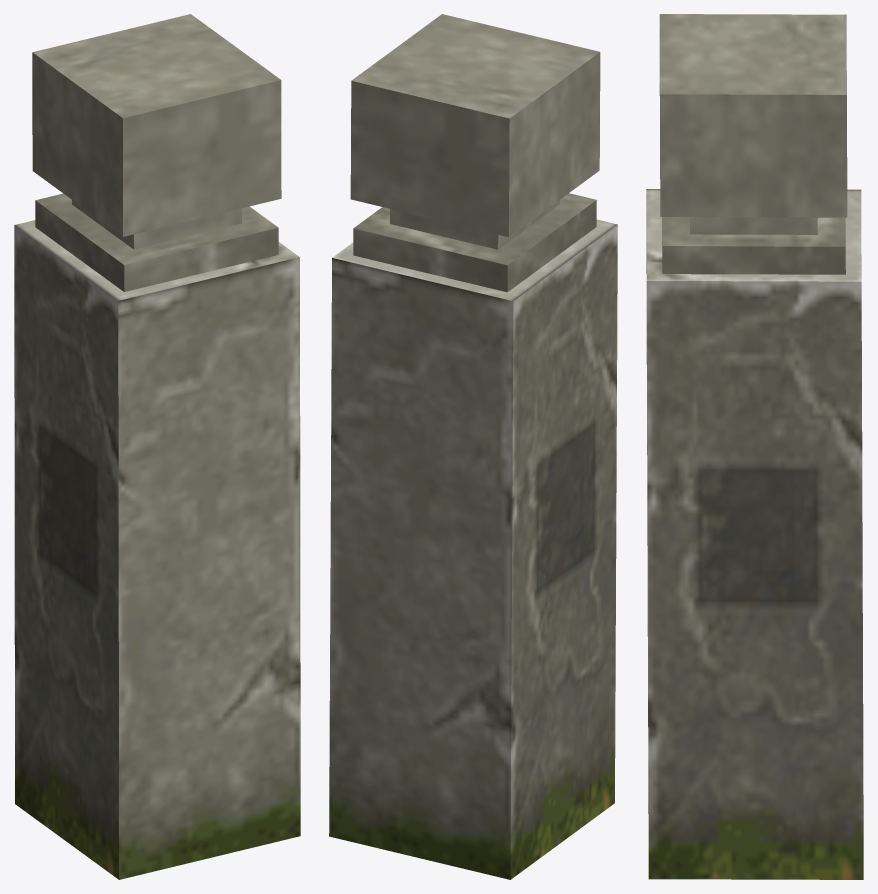
File: ss_langang_2.FBX
The picture shows the model from 3 angles, left to right: view 1: azimuth 30°, elevation 25°; view 2: azimuth 150°, elevation 25°; view 3: azimuth 270°, elevation 25°; orthographic projection. The views are drawn at different scales.
Parts seen in each view (by area): view 1: ss_langang_2; view 2: ss_langang_2; view 3: ss_langang_2.
Part boxes in pixels (x1=…): ss_langang_2: x1=14, y1=14, x2=300, y2=879; ss_langang_2: x1=329, y1=14, x2=617, y2=879; ss_langang_2: x1=646, y1=14, x2=863, y2=879.
Bounding box in the file's own units: 441 × 1734 × 439.
